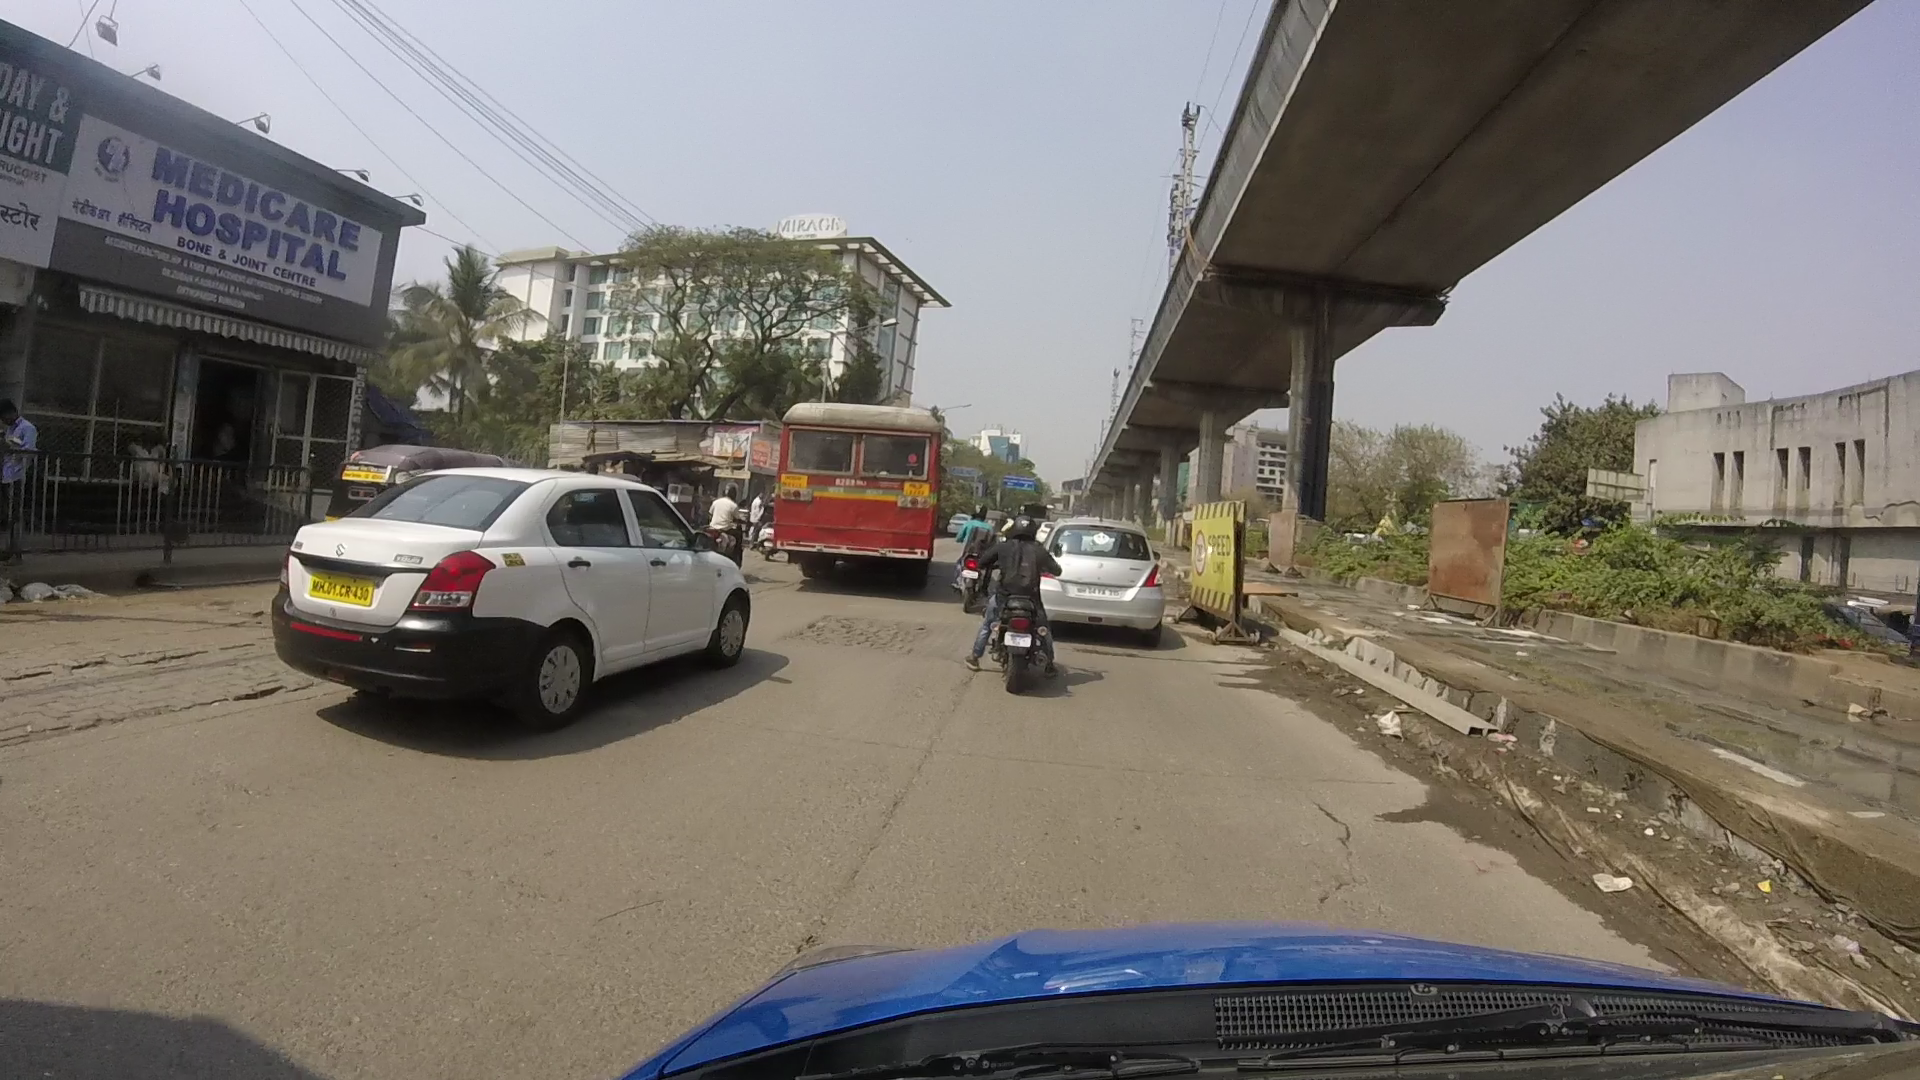bike/scooter: (945, 522, 1077, 702)
bus: (754, 367, 980, 611)
car: (262, 434, 762, 760), (1025, 469, 1174, 651)
